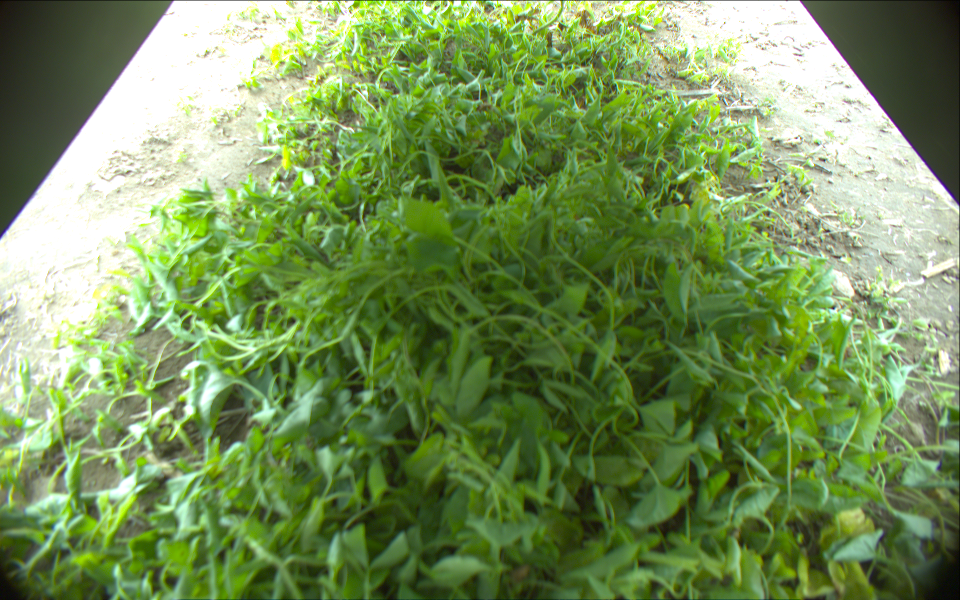aspa: (527, 1, 564, 35)
